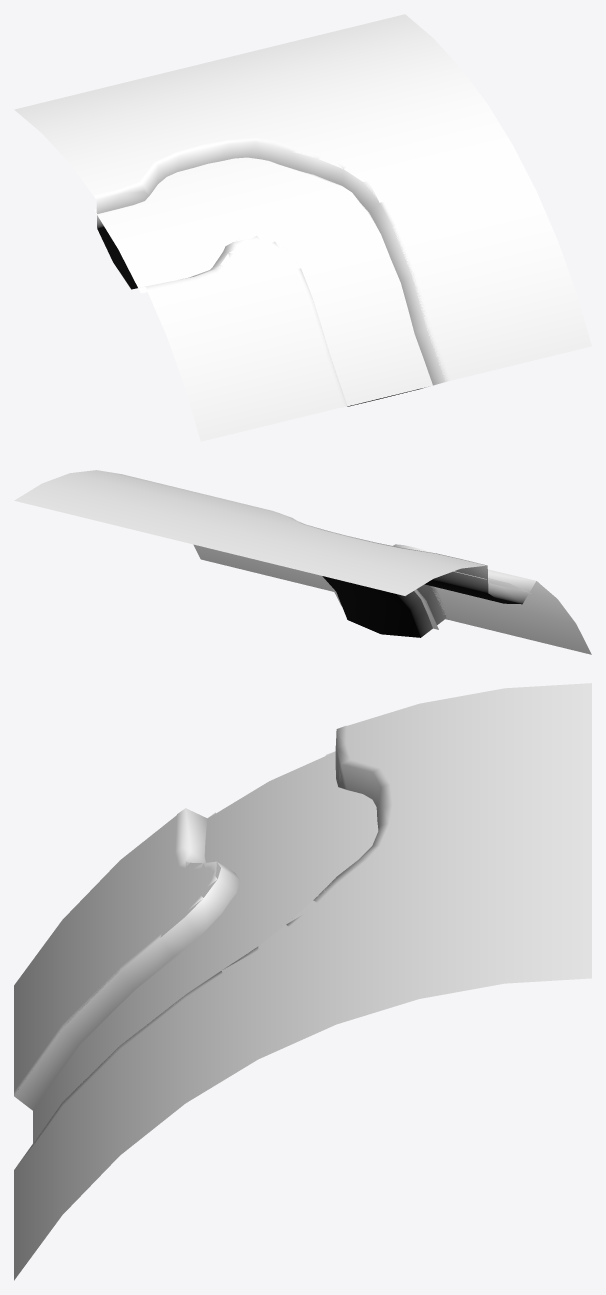
Rendered from grd_Rnw_1.dae.
The picture shows the model from 3 angles, top to bottom: view 1: azimuth 30°, elevation 25°; view 2: azimuth 150°, elevation 25°; view 3: azimuth 270°, elevation 25°; orthographic projection. The views are drawn at different scales.
Visible parts, largest first — view 1: grd_Rnw_1; view 2: grd_Rnw_1; view 3: grd_Rnw_1.
Boxes of the visible parts, x1,y1,x2,y2 form: grd_Rnw_1: [14, 14, 591, 441]; grd_Rnw_1: [14, 470, 591, 654]; grd_Rnw_1: [14, 683, 591, 1280].
Bounding box in the file's own units: 512 × 264 × 423.
4 materials, 1 textured.
